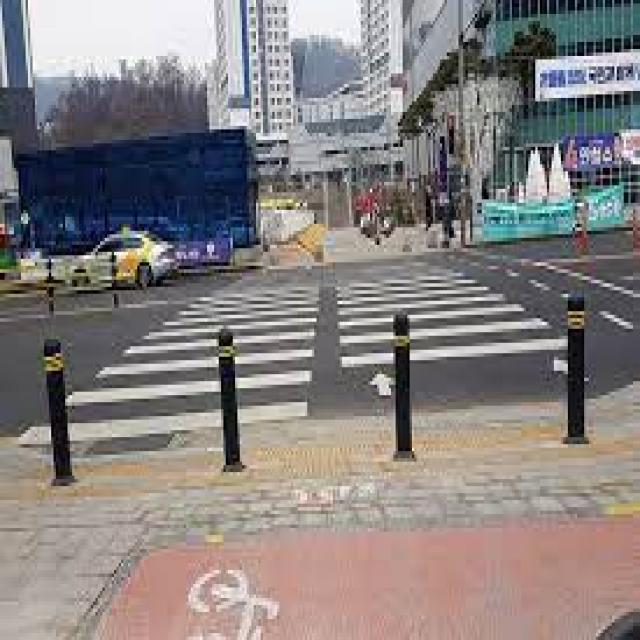bollard: (38, 332, 78, 497), (387, 303, 424, 465), (213, 322, 250, 476), (563, 288, 593, 452), (40, 245, 59, 319), (104, 242, 124, 310)
